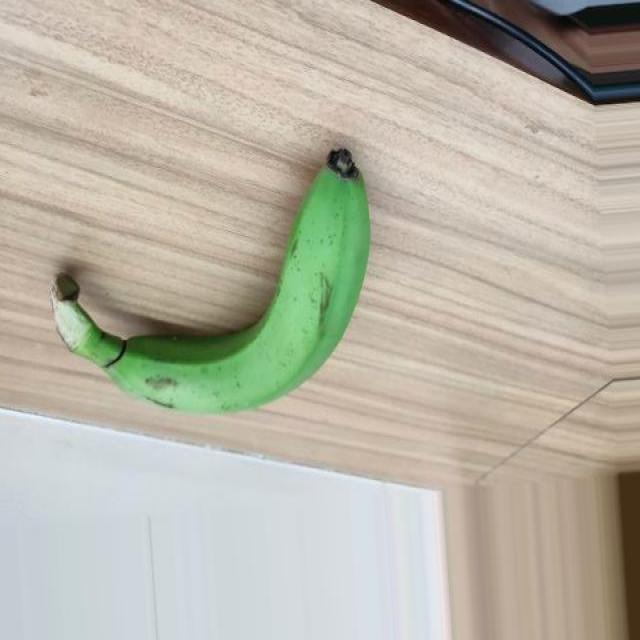Unripe: (50, 147, 373, 417)
